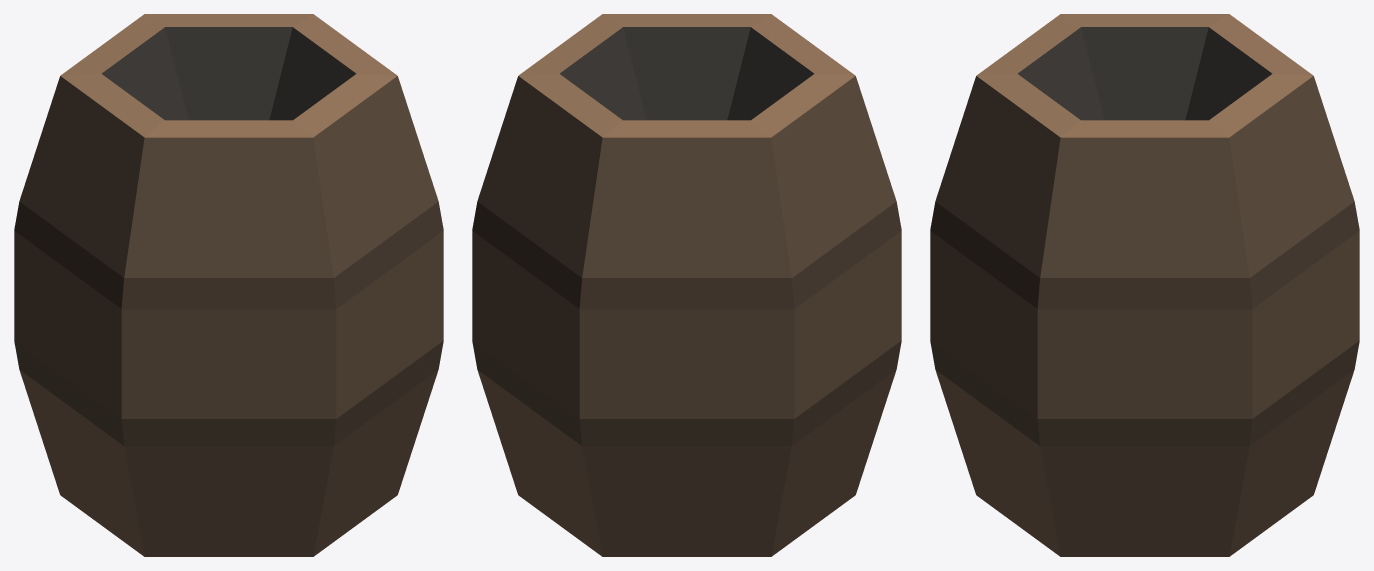
The model's file is TB_D_Prop_Barrel_Open_A.FBX.
The picture shows the model from 3 angles, left to right: view 1: azimuth 30°, elevation 25°; view 2: azimuth 150°, elevation 25°; view 3: azimuth 270°, elevation 25°; orthographic projection.
Visible parts, largest first — view 1: TB_D_Prop_Barrel_Open_A; view 2: TB_D_Prop_Barrel_Open_A; view 3: TB_D_Prop_Barrel_Open_A.
Boxes of the visible parts, <box> form: TB_D_Prop_Barrel_Open_A: <box>14,14,443,556</box>; TB_D_Prop_Barrel_Open_A: <box>472,14,901,556</box>; TB_D_Prop_Barrel_Open_A: <box>930,14,1359,556</box>.
Bounding box in the file's own units: 0.9026 × 1.13 × 1.04.
